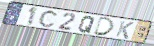1: (27, 6, 39, 26)
2: (56, 12, 77, 32)
C: (37, 10, 59, 28)
D: (92, 16, 116, 37)
K: (115, 20, 136, 40)
Q: (77, 16, 96, 35)
